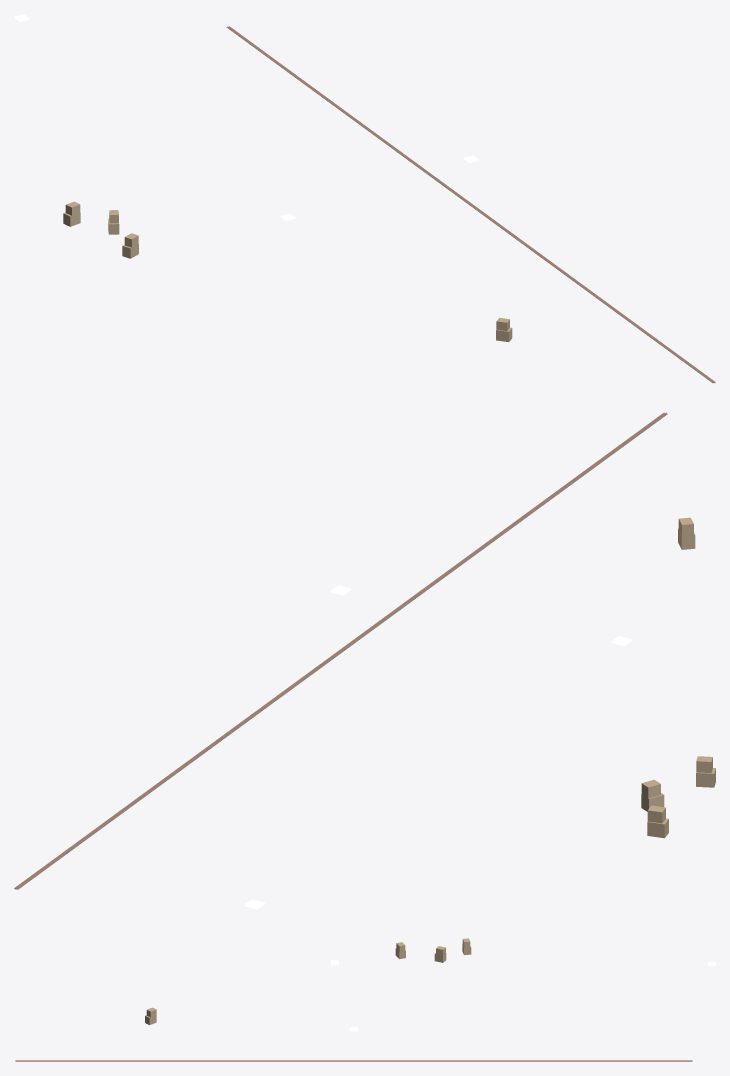
File: fine-s0.glb
3 views of the same model, one above another, from view 1: azimuth 30°, elevation 25°; view 2: azimuth 150°, elevation 25°; view 3: azimuth 270°, elevation 25° (orthographic). The views are drawn at different scales.
Visible parts, largest first — view 1: soft-s0; view 2: soft-s0; view 3: soft-s0.
Boxes of the visible parts, x1,y1,x2,y2 form: soft-s0: [226, 26, 715, 382]; soft-s0: [14, 412, 667, 889]; soft-s0: [15, 1060, 692, 1061].
Bounding box in the file's own units: 16.64 × 2.23 × 44.01.
